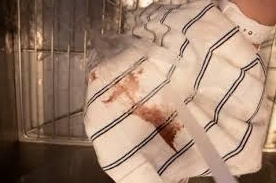wine: (134, 105, 187, 150), (98, 79, 147, 103), (87, 71, 102, 85)
